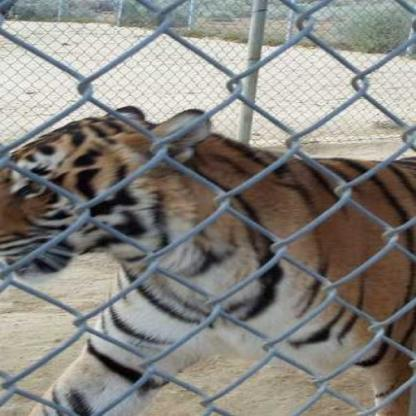Tiger: (0, 94, 415, 415)
